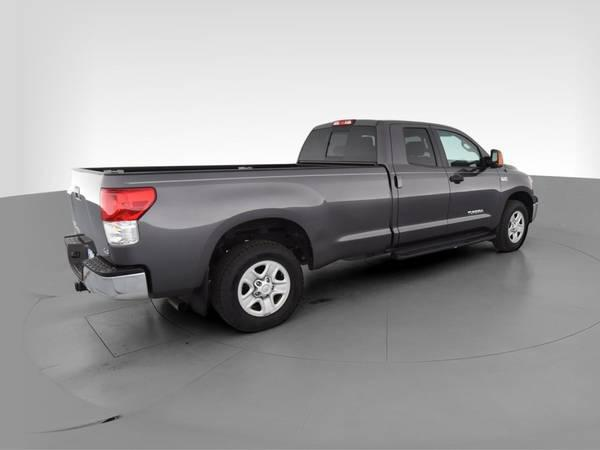Front_Fender: (495, 163, 536, 222)
Front_Right_Door: (444, 165, 502, 233)
Front_Right_Window: (427, 125, 492, 165)
Rear_Bumper: (62, 228, 148, 300)
Rear_Fender: (98, 165, 392, 297)
Rear_Right_Door: (385, 165, 450, 245)
Rear_Right_Window: (381, 122, 440, 167)
Rear_Windshield: (296, 120, 384, 164)
Right_Taillight: (99, 187, 157, 247)
Tailgate: (68, 166, 109, 261)
Wheel: (208, 235, 305, 328), (489, 200, 528, 249)
